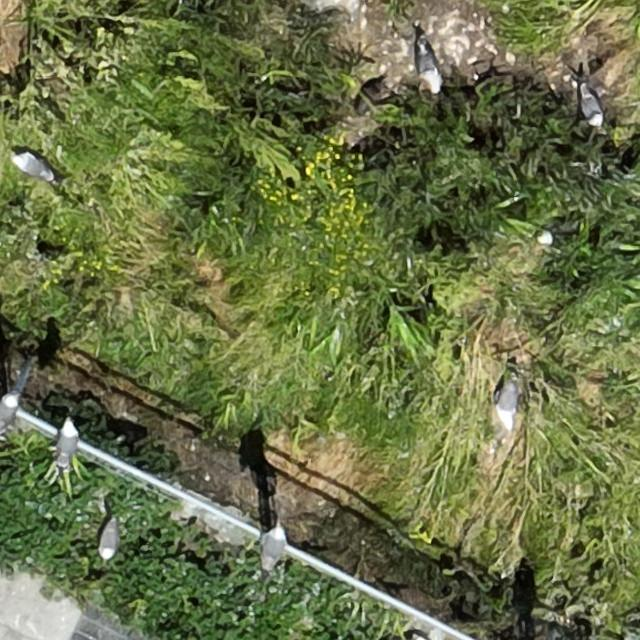umineko: (496, 367, 520, 430), (418, 45, 440, 89), (13, 153, 50, 179), (56, 422, 76, 466), (262, 526, 284, 566), (580, 88, 602, 124), (99, 523, 117, 558), (0, 393, 16, 428)
